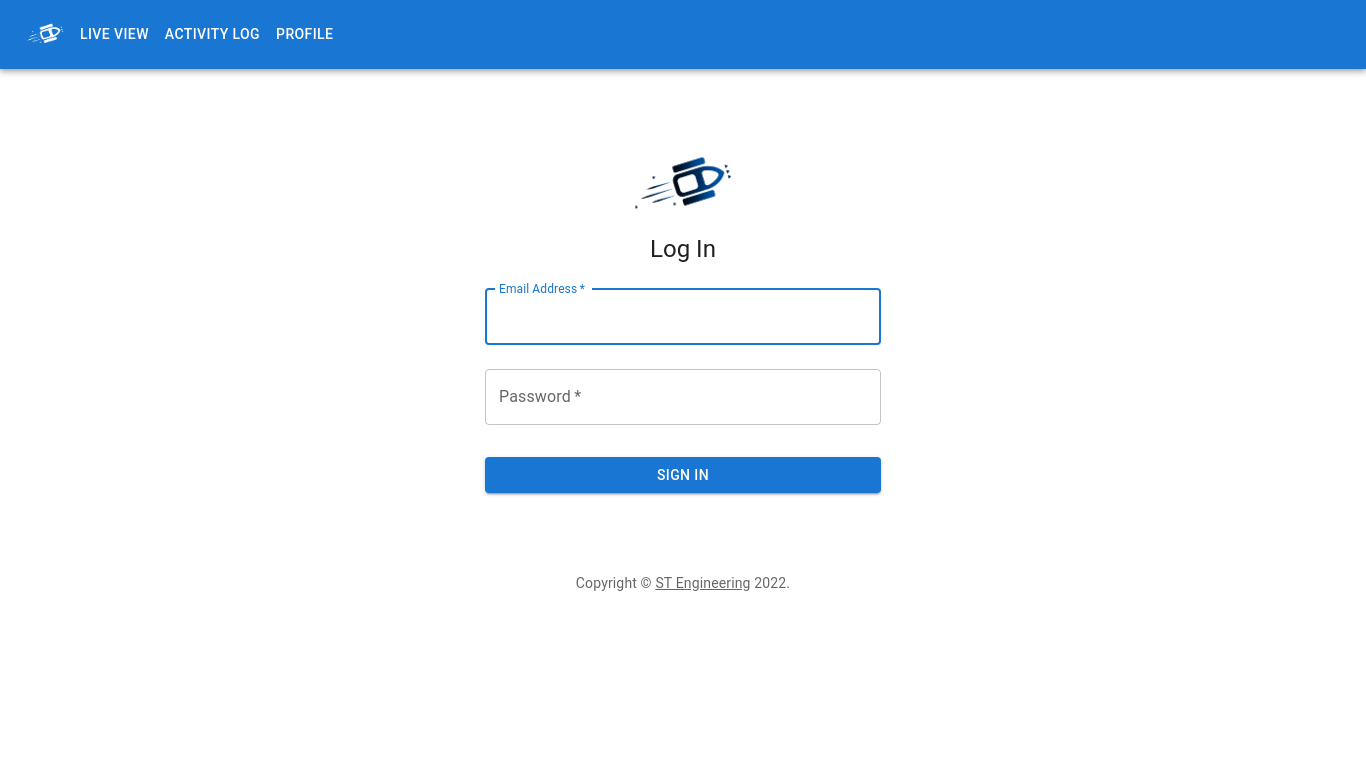
Test our basic auth functions › cannot login without password
Type "mike@mike.com" into the element with test id "email-input" at (683, 317), box [485,289,881,345]
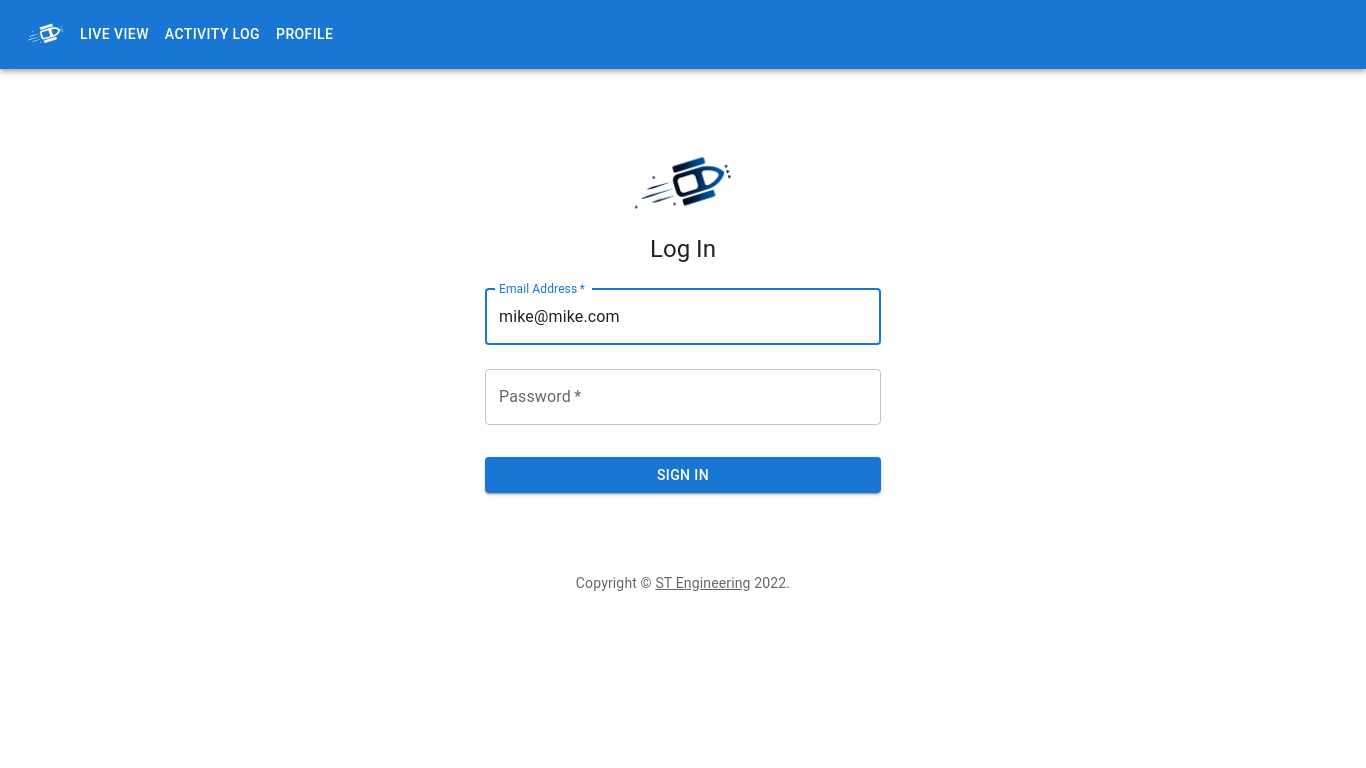
Click the button with test id "login-button" at (683, 476), box [485,457,881,494]
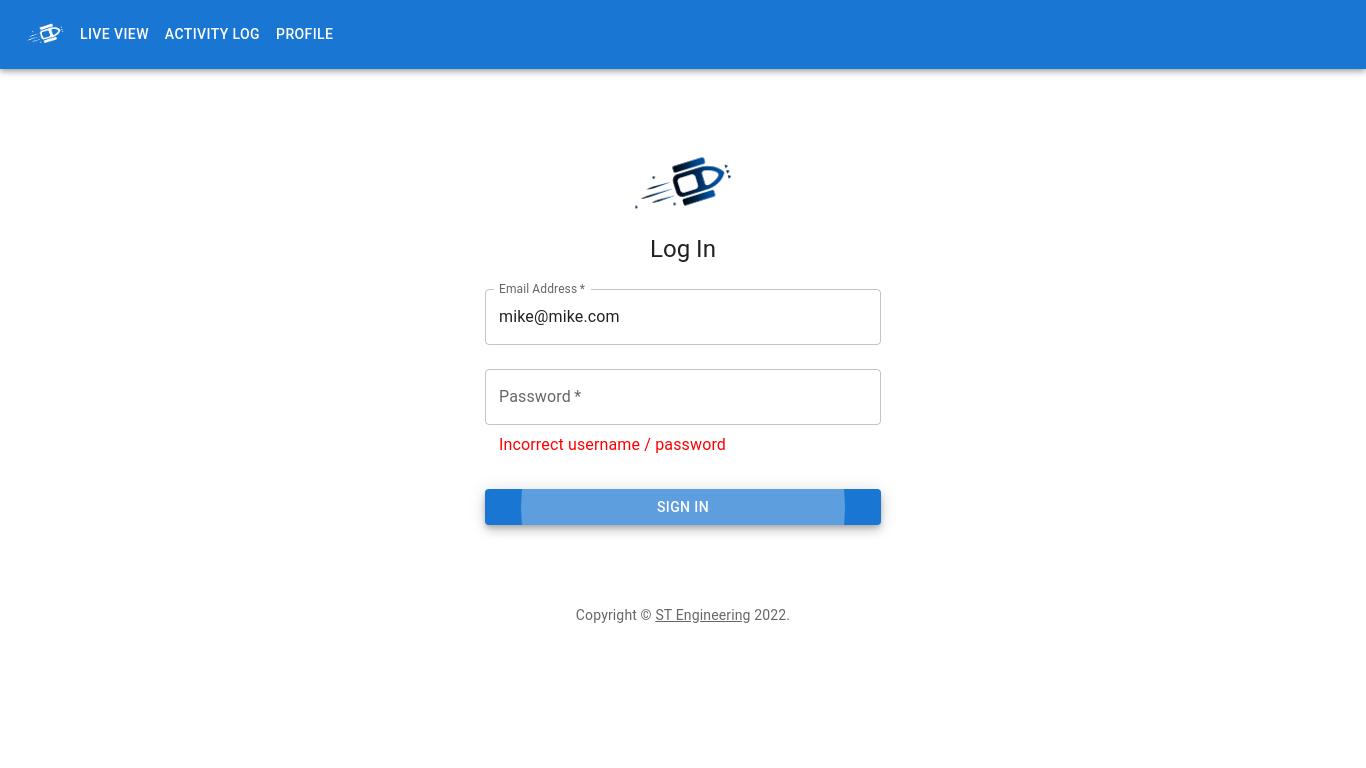
Expected: the text "Incorrect" is shown, [499,435,726,454]
